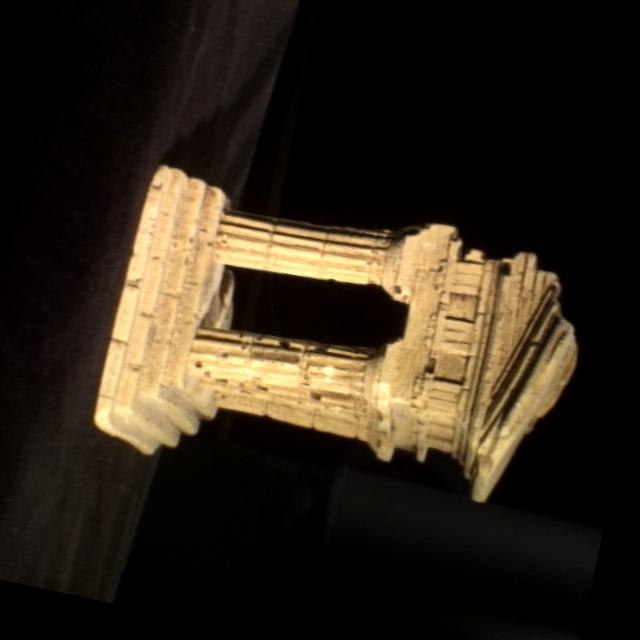Instance-Segmentation: (93, 165, 575, 501)
